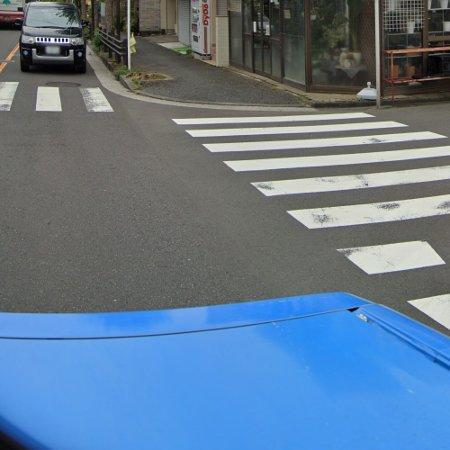crosswalks: (172, 111, 450, 301), (0, 81, 118, 111)
